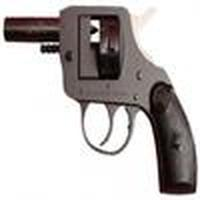gun: (5, 3, 195, 200)
